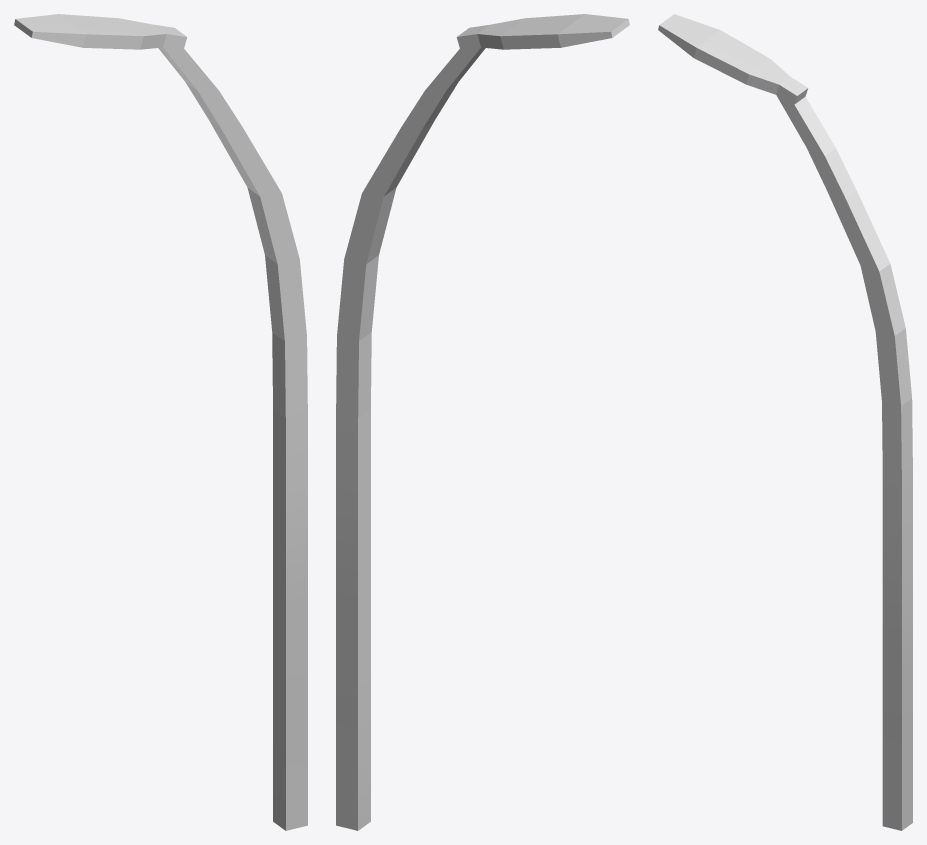
Rendered from road_lamp.obj.
3 renders of one model, left to right at view 1: azimuth 30°, elevation 25°; view 2: azimuth 150°, elevation 25°; view 3: azimuth 330°, elevation 25°, orthographic. The views are drawn at different scales.
Parts seen in each view (by area): view 1: ROAD.291; view 2: ROAD.291; view 3: ROAD.291.
Boxes of the visible parts, bbox=[...] form: ROAD.291: bbox=[14, 14, 307, 830]; ROAD.291: bbox=[336, 14, 629, 830]; ROAD.291: bbox=[658, 14, 912, 830].
Bounding box in the file's own units: 15.73 × 46.55 × 2.72.
1 material, 1 textured.
